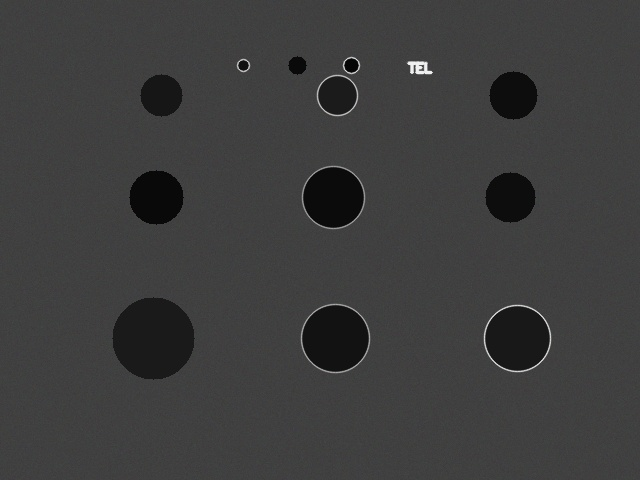hole: (112, 297, 194, 379), (301, 304, 369, 372), (484, 305, 550, 371), (302, 166, 364, 228), (129, 170, 183, 224), (485, 172, 535, 222), (489, 71, 537, 119), (140, 74, 182, 116), (317, 75, 357, 115), (288, 56, 306, 74), (343, 57, 359, 73), (237, 59, 249, 71)
